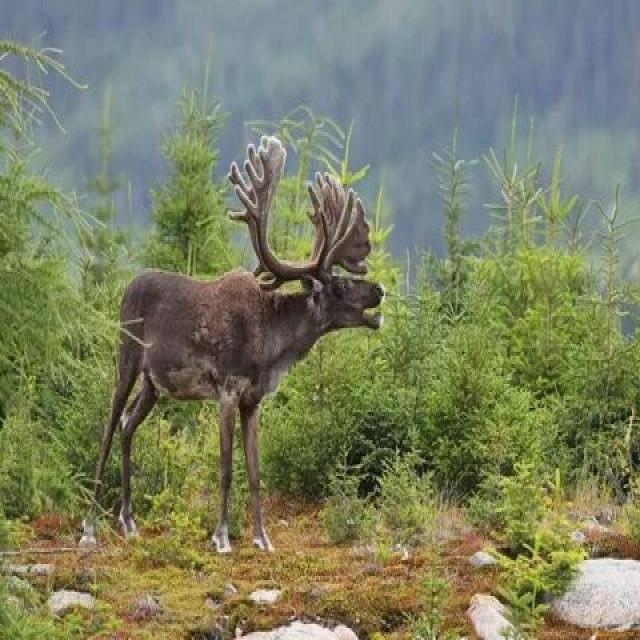deer: (96, 187, 404, 586)
